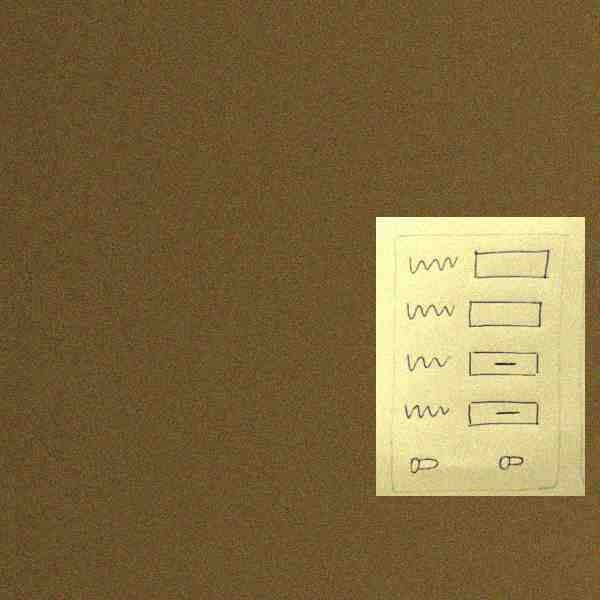button: (465, 398, 543, 431), (467, 348, 542, 381)
switch: (405, 452, 441, 476), (494, 450, 530, 474)
text: (403, 297, 458, 324), (401, 348, 456, 375), (401, 398, 456, 425), (404, 251, 459, 277)
text_input: (471, 248, 552, 285), (466, 295, 547, 332)
